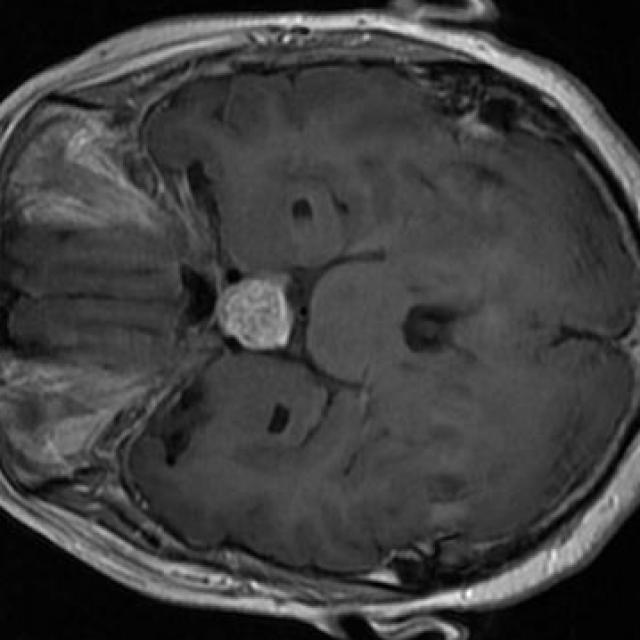pituitary: (217, 278, 294, 351)
